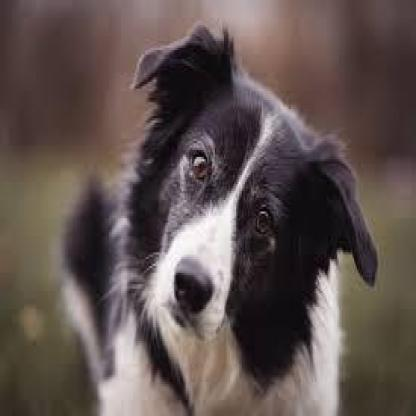cachorro: (101, 27, 393, 374)
